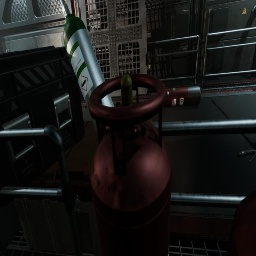0: (60, 0, 115, 136)
NitrogenTank ,: (88, 73, 172, 256), (226, 190, 256, 256), (163, 86, 201, 108), (256, 133, 256, 135)
